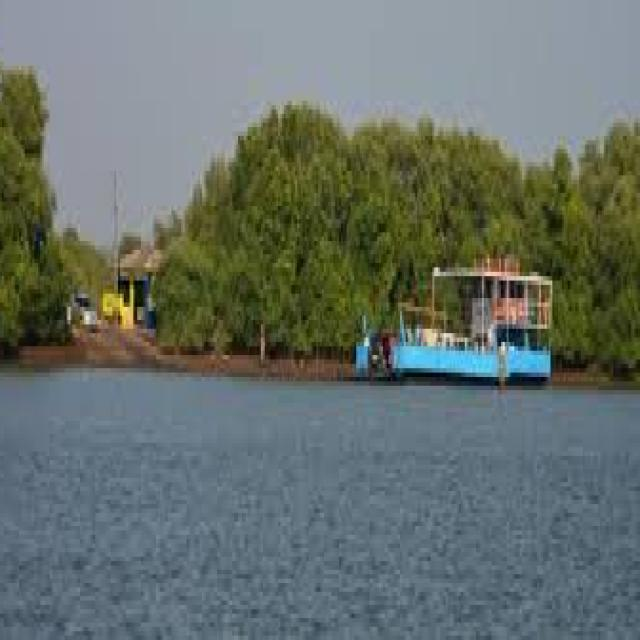fishing boat: (361, 242, 558, 382)
